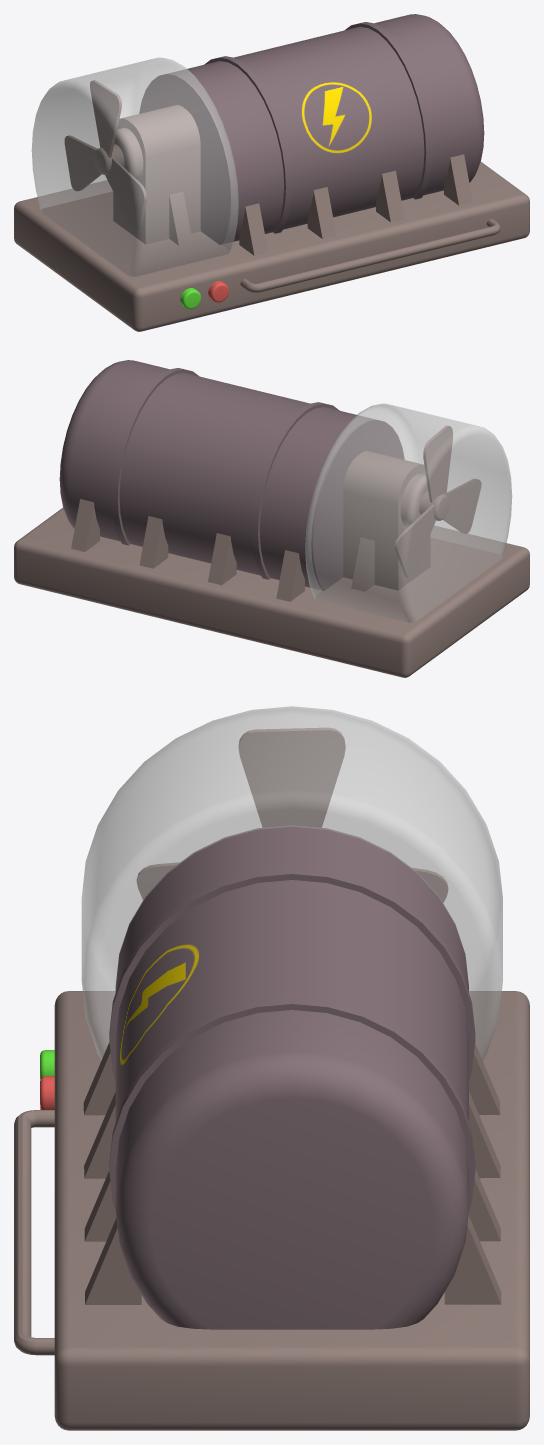
Rendered from elektrikMotor.fbx.
3 renders of one model, top to bottom at view 1: azimuth 30°, elevation 25°; view 2: azimuth 150°, elevation 25°; view 3: azimuth 270°, elevation 25°, orthographic. The views are drawn at different scales.
Visible parts, largest first — view 1: kasa, zeminmetal, cam, motorgovde, pervane; view 2: kasa, zeminmetal, cam, motorgovde, pervane; view 3: kasa, zeminmetal, cam, pervane.
Part boxes in pixels (bbox=[...]): kasa: bbox=[139, 14, 484, 244]; zeminmetal: bbox=[14, 154, 529, 331]; cam: bbox=[31, 57, 238, 276]; motorgovde: bbox=[94, 105, 200, 244]; pervane: bbox=[64, 80, 146, 230]; kasa: bbox=[59, 360, 404, 590]; zeminmetal: bbox=[14, 499, 529, 677]; cam: bbox=[305, 403, 512, 622]; motorgovde: bbox=[343, 451, 449, 590]; pervane: bbox=[394, 425, 481, 579]; kasa: bbox=[109, 825, 475, 1329]; zeminmetal: bbox=[14, 991, 529, 1430]; cam: bbox=[81, 706, 502, 1060]; pervane: bbox=[136, 727, 448, 902].
Bounding box in the file's own units: 200 × 97.02 × 119.
Materials: 5 (1 with a texture image).
